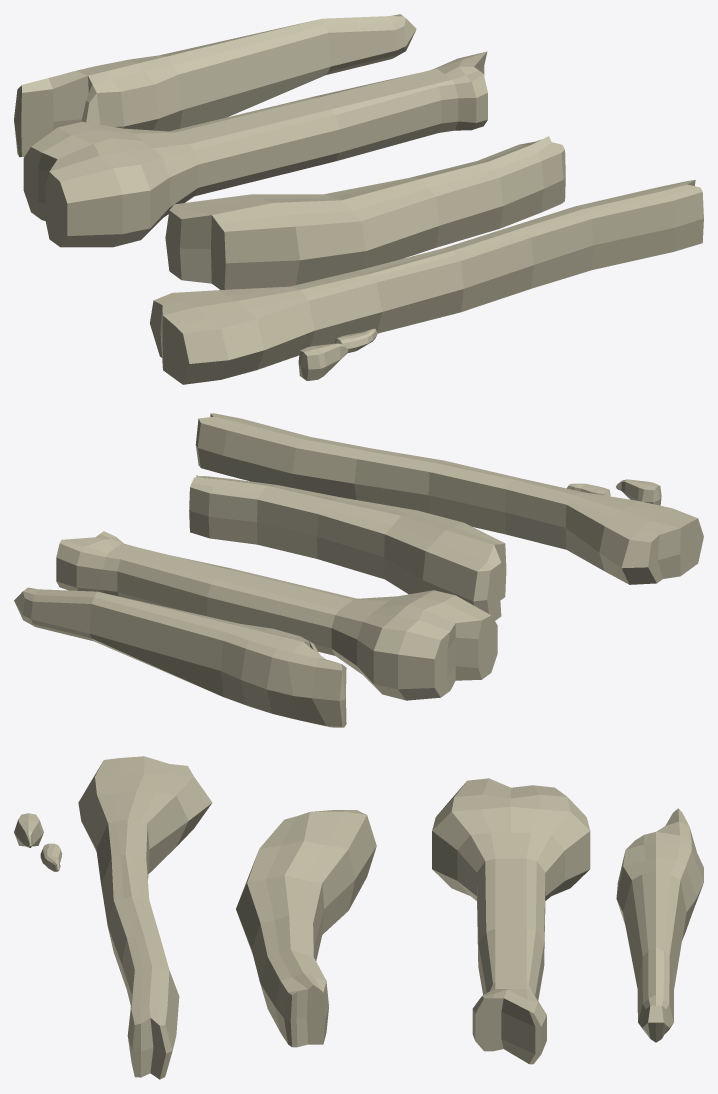
File: Owens_bones_parts.fbx
The picture shows the model from 3 angles, top to bottom: view 1: azimuth 30°, elevation 25°; view 2: azimuth 150°, elevation 25°; view 3: azimuth 270°, elevation 25°; orthographic projection. The views are drawn at different scales.
Visible parts, largest first — view 1: Bone2, Bone1, Bone3, bone4, Tooth, tooth2; view 2: Bone2, Bone1, Bone3, bone4, Tooth; view 3: Bone1, Bone2, Bone3, bone4, Tooth.
Boxes of the visible parts, x1=… form: Bone2: x1=150, y1=180, x2=703, y2=384; Bone1: x1=23, y1=51, x2=487, y2=247; Bone3: x1=165, y1=136, x2=565, y2=289; bone4: x1=14, y1=14, x2=416, y2=157; Tooth: x1=298, y1=343, x2=348, y2=380; tooth2: x1=335, y1=328, x2=377, y2=352; Bone2: x1=195, y1=413, x2=703, y2=584; Bone1: x1=56, y1=531, x2=497, y2=700; Bone3: x1=189, y1=475, x2=506, y2=620; bone4: x1=14, y1=587, x2=346, y2=727; Tooth: x1=616, y1=479, x2=661, y2=505; Bone1: x1=432, y1=778, x2=590, y2=1064; Bone2: x1=78, y1=756, x2=212, y2=1079; Bone3: x1=236, y1=810, x2=376, y2=1047; bone4: x1=616, y1=808, x2=703, y2=1042; Tooth: x1=14, y1=813, x2=43, y2=847.
Size of the model in its own units: 2.01 by 0.2983 by 2.19.
